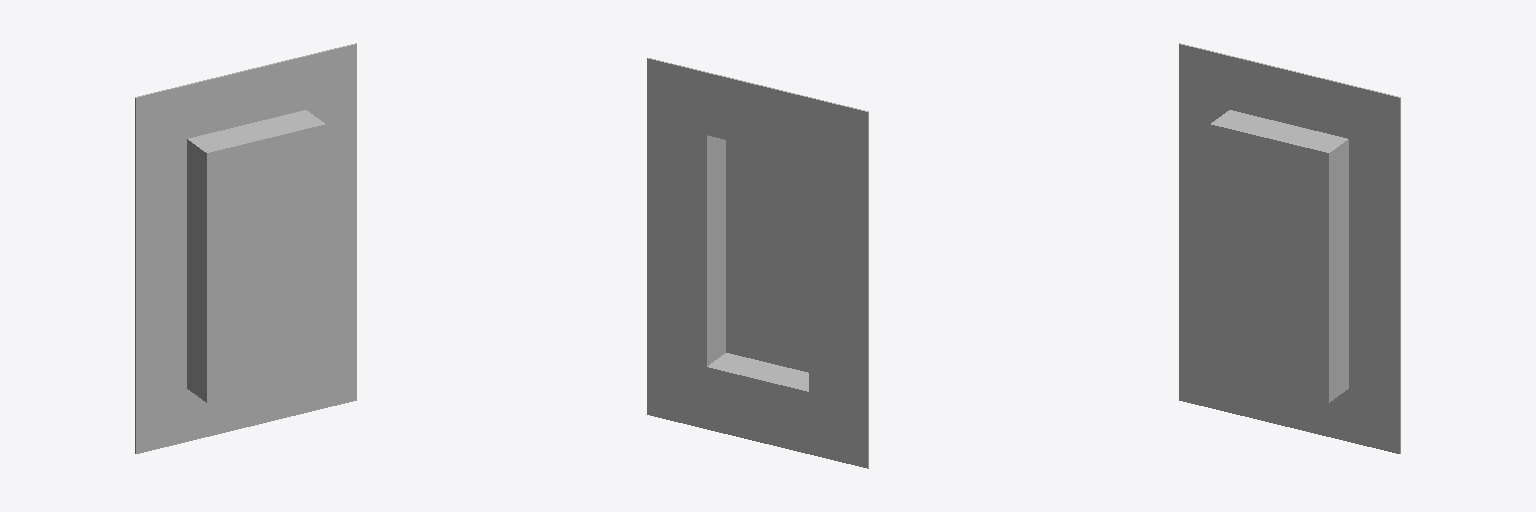
File: bottom v2.obj
The picture shows the model from 3 angles: view 1: azimuth 30°, elevation 25°; view 2: azimuth 150°, elevation 25°; view 3: azimuth 330°, elevation 25°; orthographic projection.
Parts seen in each view (by area): view 1: Body1; view 2: Body1; view 3: Body1.
Boxes of the visible parts, <box> form: Body1: <box>135,43,356,453</box>; Body1: <box>647,58,868,468</box>; Body1: <box>1179,43,1400,453</box>.
Bounding box in the file's own units: 650 × 1000 × 105.